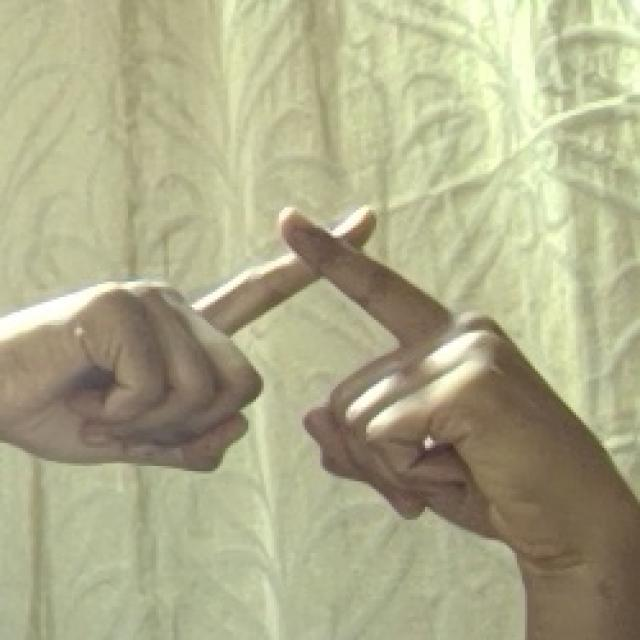Alphabet-X: (0, 165, 572, 556)
